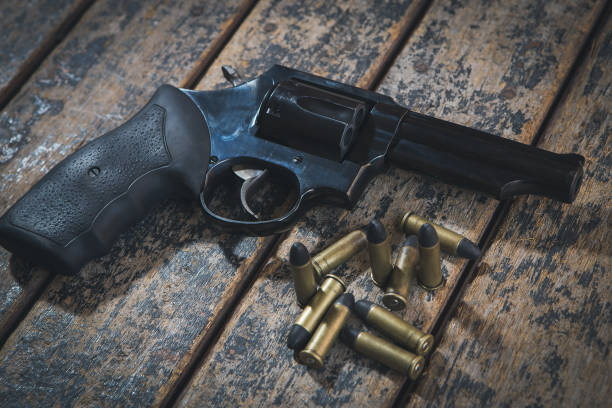gun: (0, 59, 586, 290)
